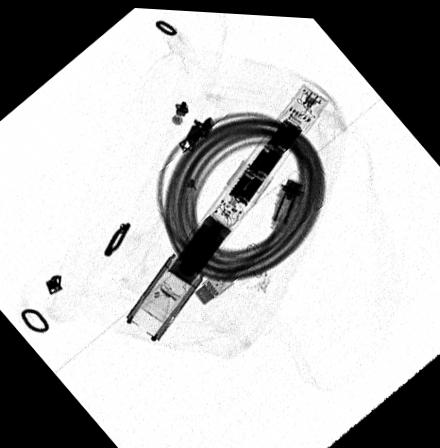Baton: (124, 78, 332, 341)
